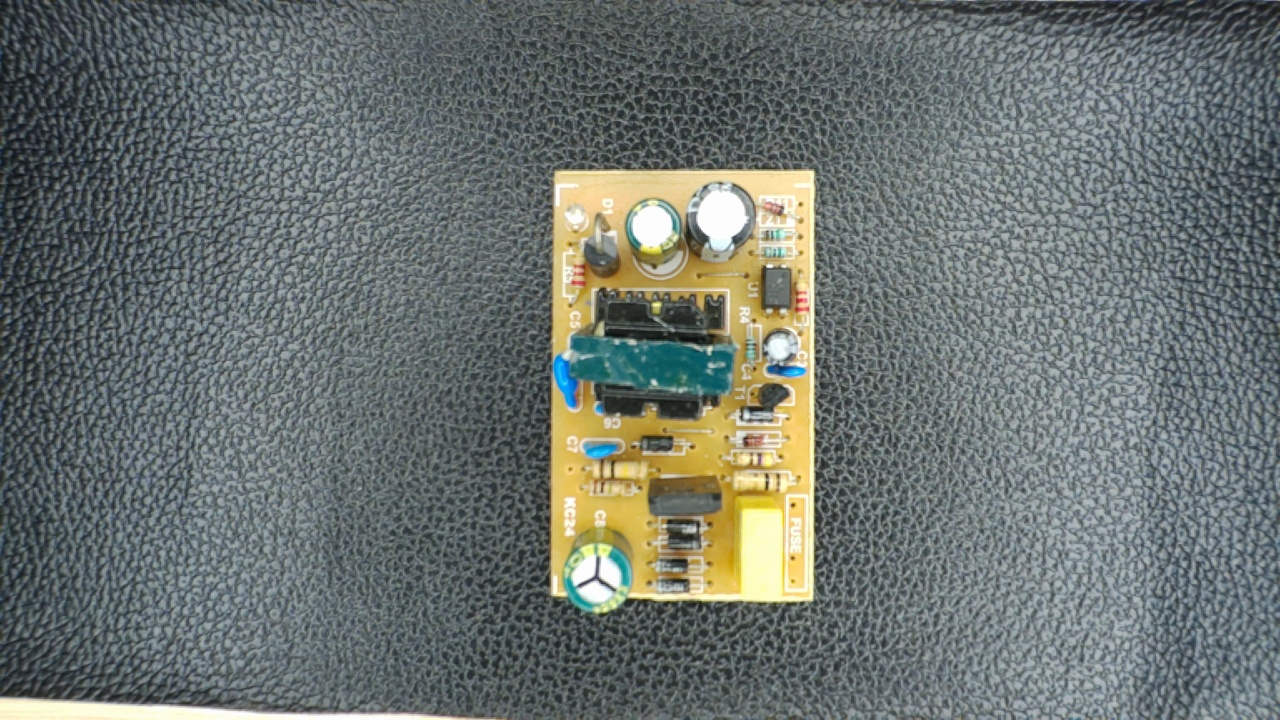hv_capacitor: (558, 528, 636, 615)
mov: (551, 344, 585, 414)
optocoupler: (758, 263, 795, 320)
